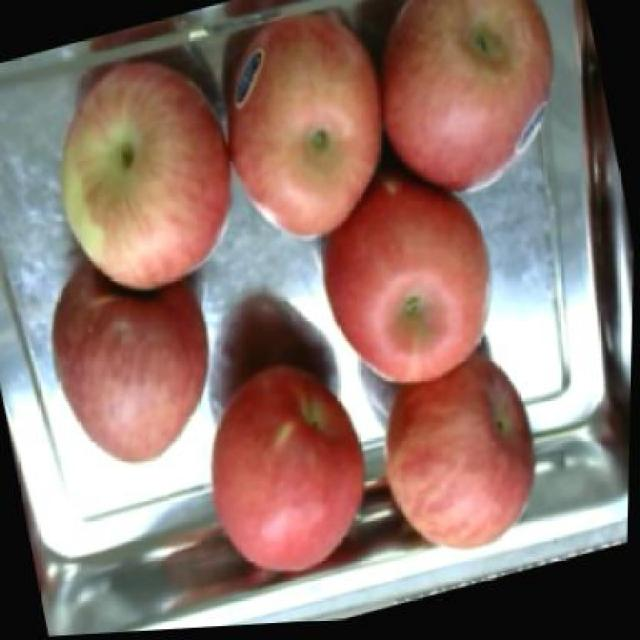Fresh Apple: (62, 69, 243, 282), (226, 32, 385, 238), (384, 3, 556, 189), (374, 383, 549, 552), (316, 189, 478, 371), (45, 266, 200, 448), (222, 383, 362, 579)
